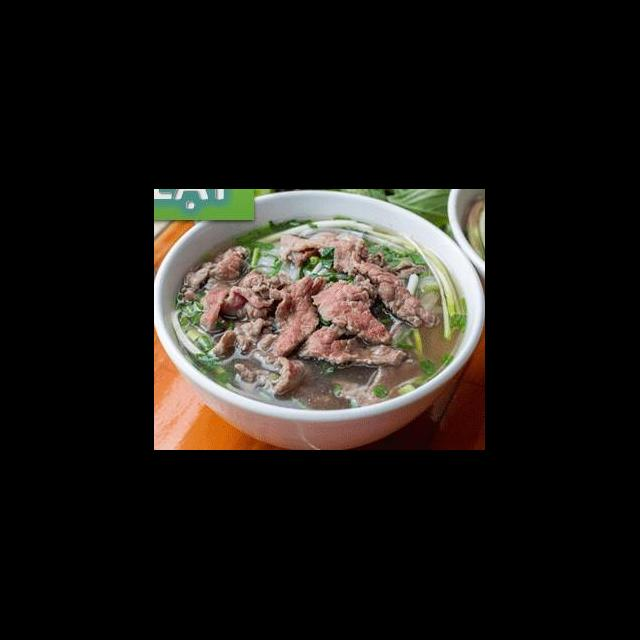thit bo: (348, 247, 442, 331), (308, 270, 396, 348), (197, 266, 286, 332), (294, 324, 408, 374), (279, 228, 372, 278), (270, 272, 324, 358), (232, 352, 318, 402), (208, 316, 282, 359), (172, 258, 215, 312), (207, 244, 250, 284)
